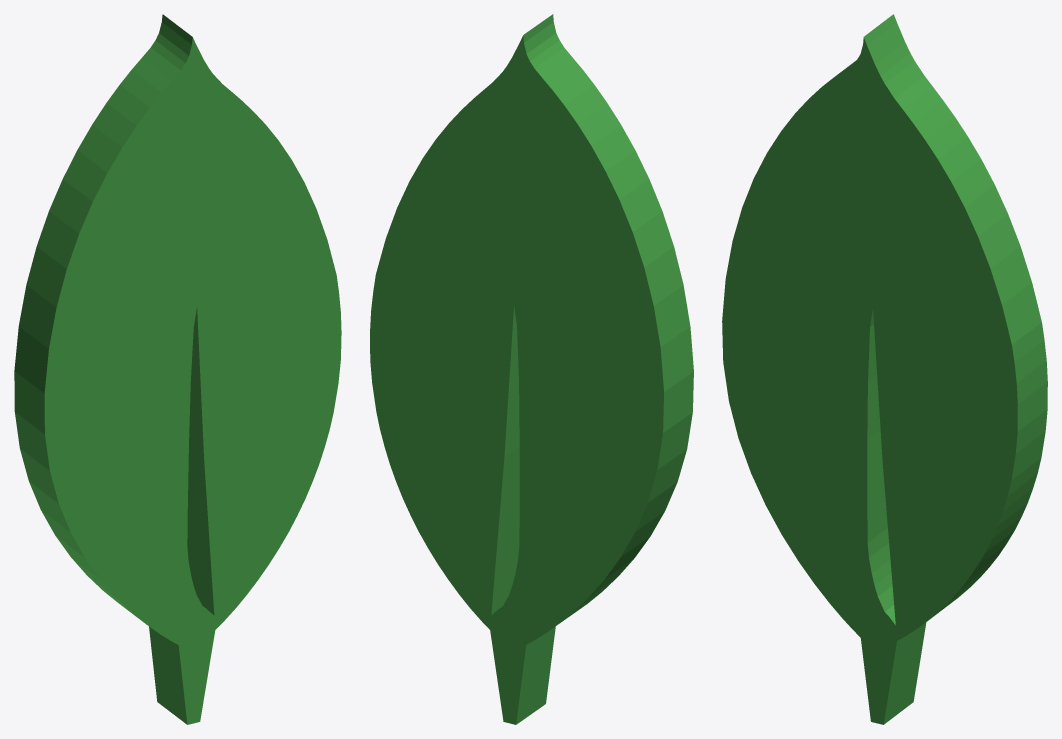
Rendered from Mongodb_model.glb.
3 views of the same model, side by side, from view 1: azimuth 30°, elevation 25°; view 2: azimuth 150°, elevation 25°; view 3: azimuth 330°, elevation 25° (orthographic).
Visible parts, largest first — view 1: Curve; view 2: Curve; view 3: Curve.
Boxes of the visible parts, x1,y1,x2,y2 form: Curve: (14,14,341,724); Curve: (370,14,693,724); Curve: (722,14,1047,724).
Size of the model in its own units: 0.3038 by 0.678 by 0.0646.
